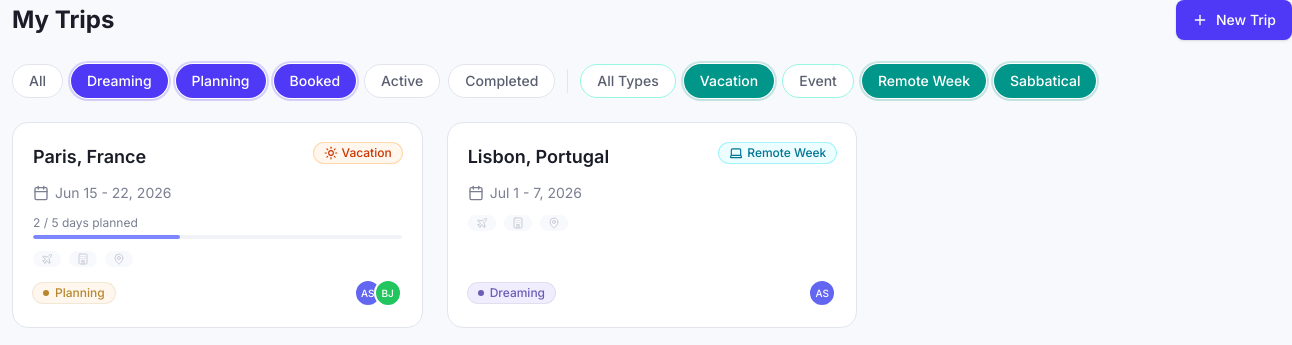
TripsPage › clicking a status filter pill filters trips client-side
Expected: the heading "Paris, France" is shown, [33,143,146,171]
Expected: the heading "Lisbon, Portugal" is shown, [468,143,609,171]
Click "All" first to clear all pre-selected filters
Click the button "All" at [38, 81], box [12,64,63,98]
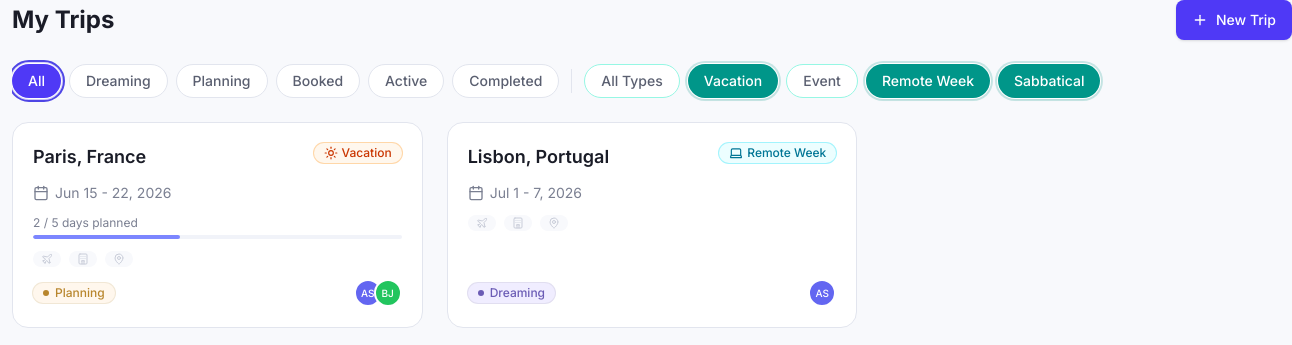
Click "Planning" filter — only Paris (planning) shown
Click the button with test id "status-filter" at [222, 81], box [176,64,268,98]
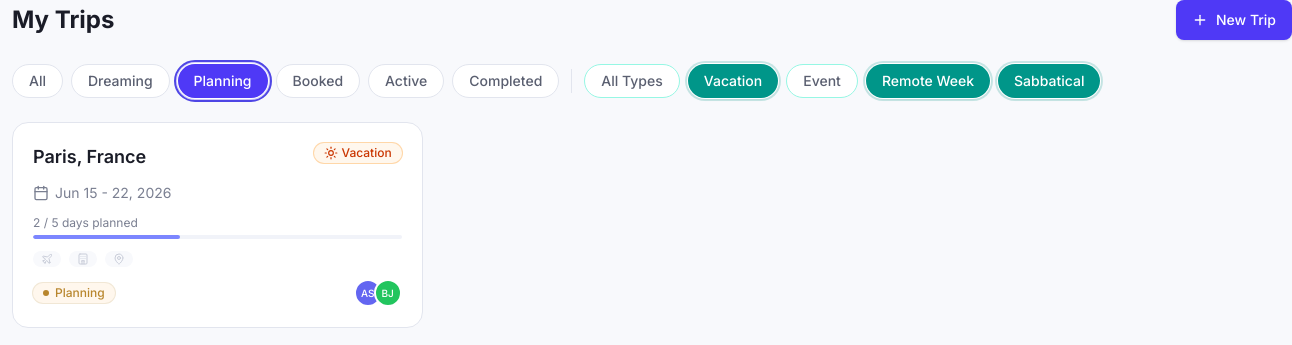
Expected: the heading "Paris, France" is shown, [33,143,146,171]
Expected: the link "Lisbon, Portugal" is gone
